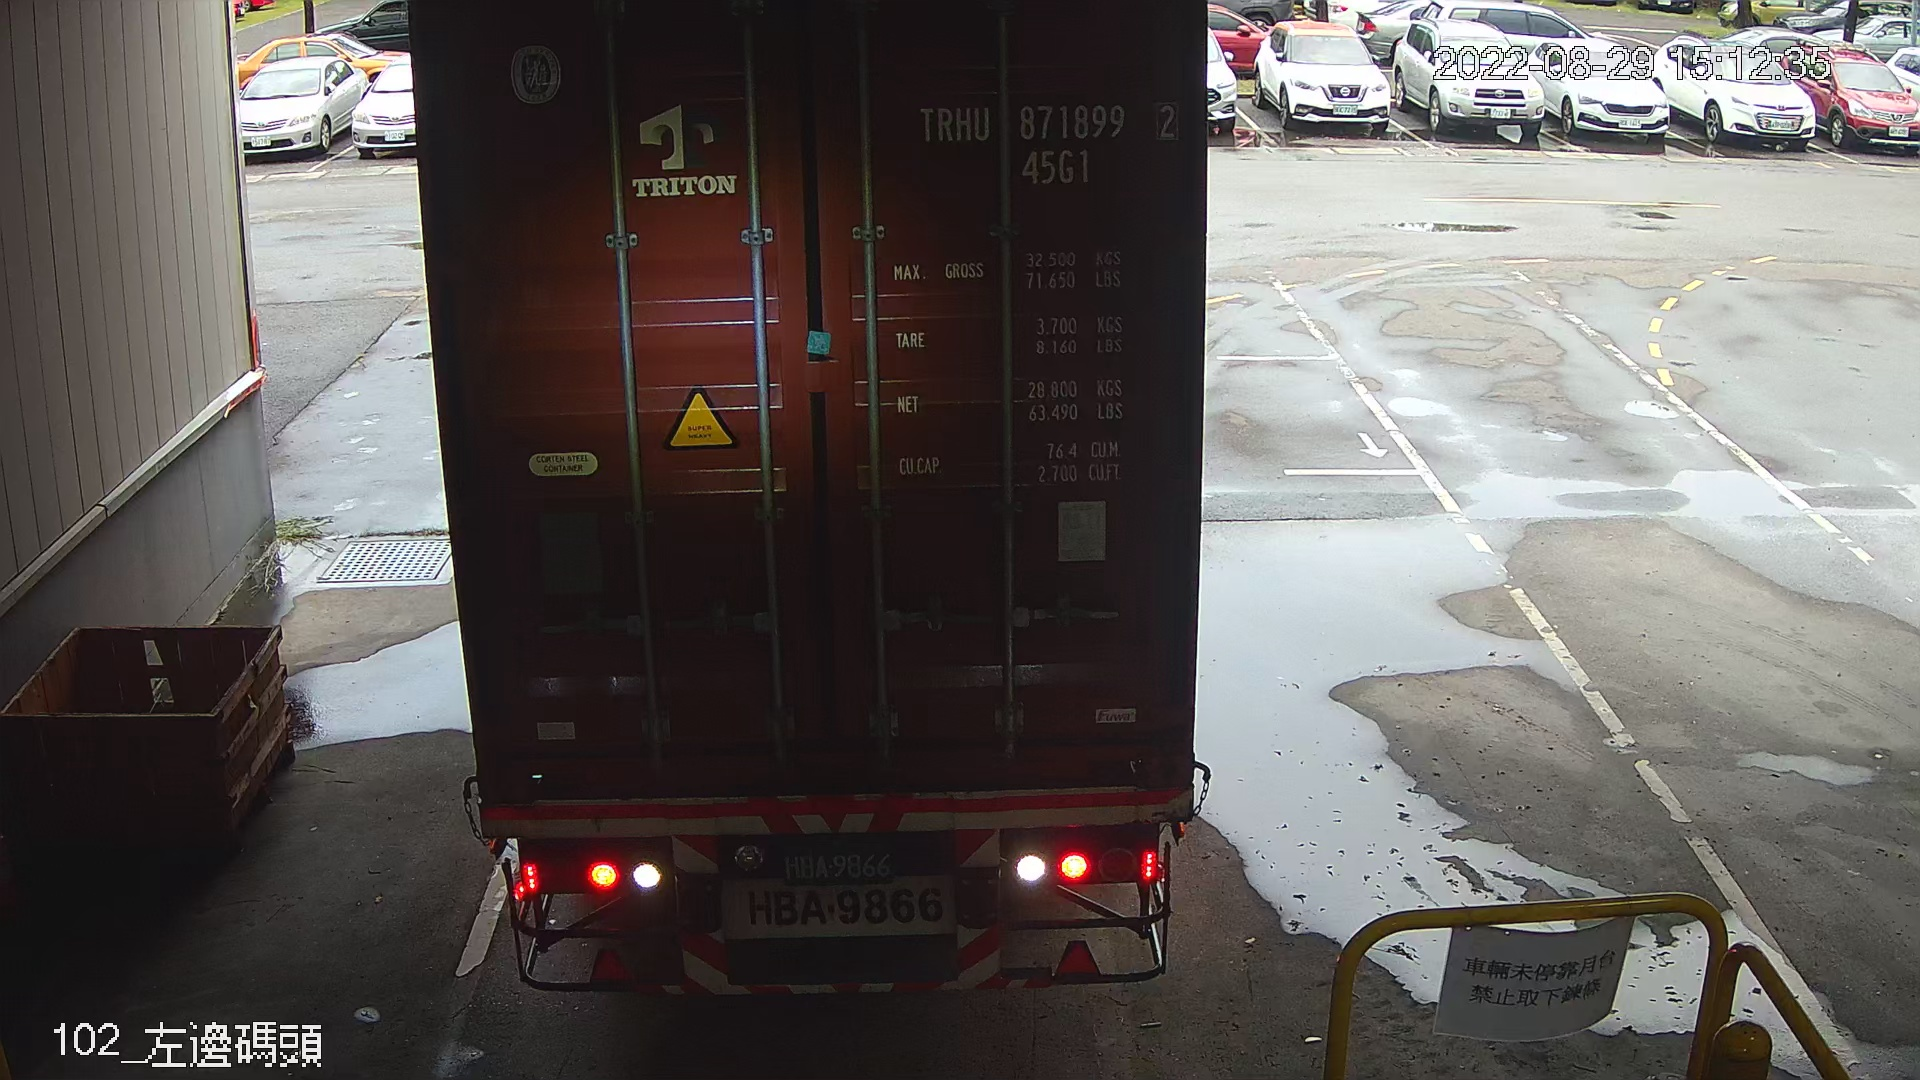container: (909, 88, 1187, 195)
